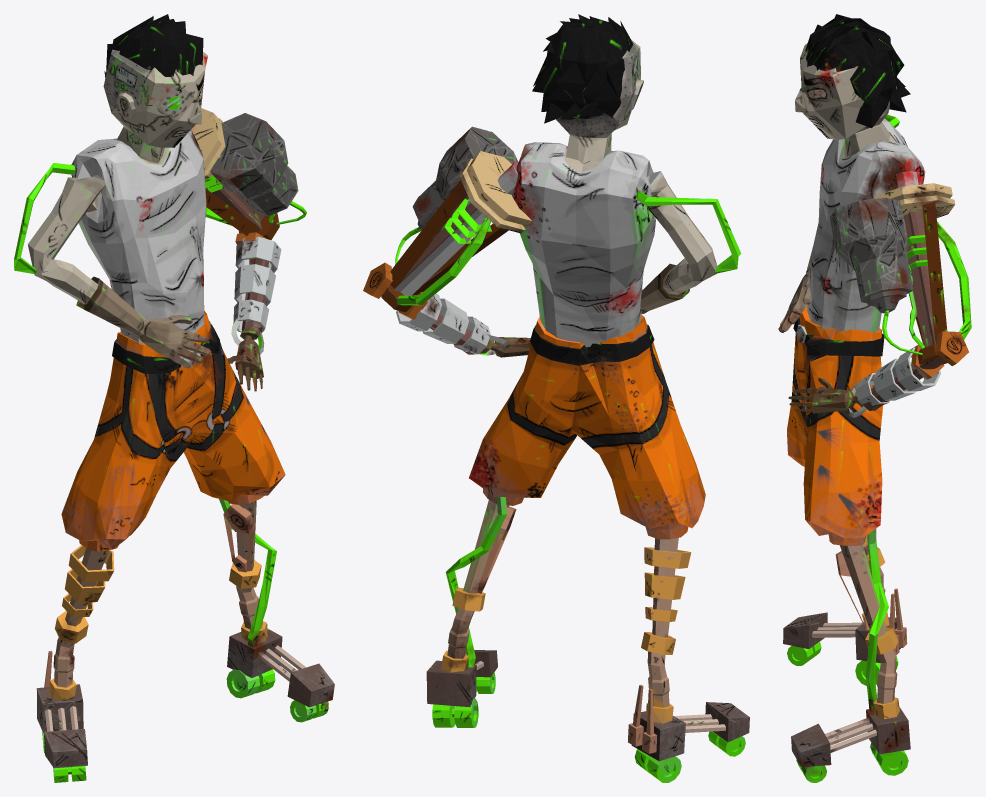
The model's file is CyborgFINALAnimation_000010.obj.
3 renders of one model, left to right at view 1: azimuth 30°, elevation 25°; view 2: azimuth 150°, elevation 25°; view 3: azimuth 270°, elevation 25°, orthographic. The views are drawn at different scales.
Parts seen in each view (by area): view 1: CyborgMesh_Cube.002; view 2: CyborgMesh_Cube.002; view 3: CyborgMesh_Cube.002.
Part boxes in pixels (x1,y1,x2,y2): CyborgMesh_Cube.002: [14, 14, 334, 782]; CyborgMesh_Cube.002: [363, 14, 749, 782]; CyborgMesh_Cube.002: [778, 14, 971, 782].
Size of the model in its own units: 4.42 by 9.63 by 2.41.
